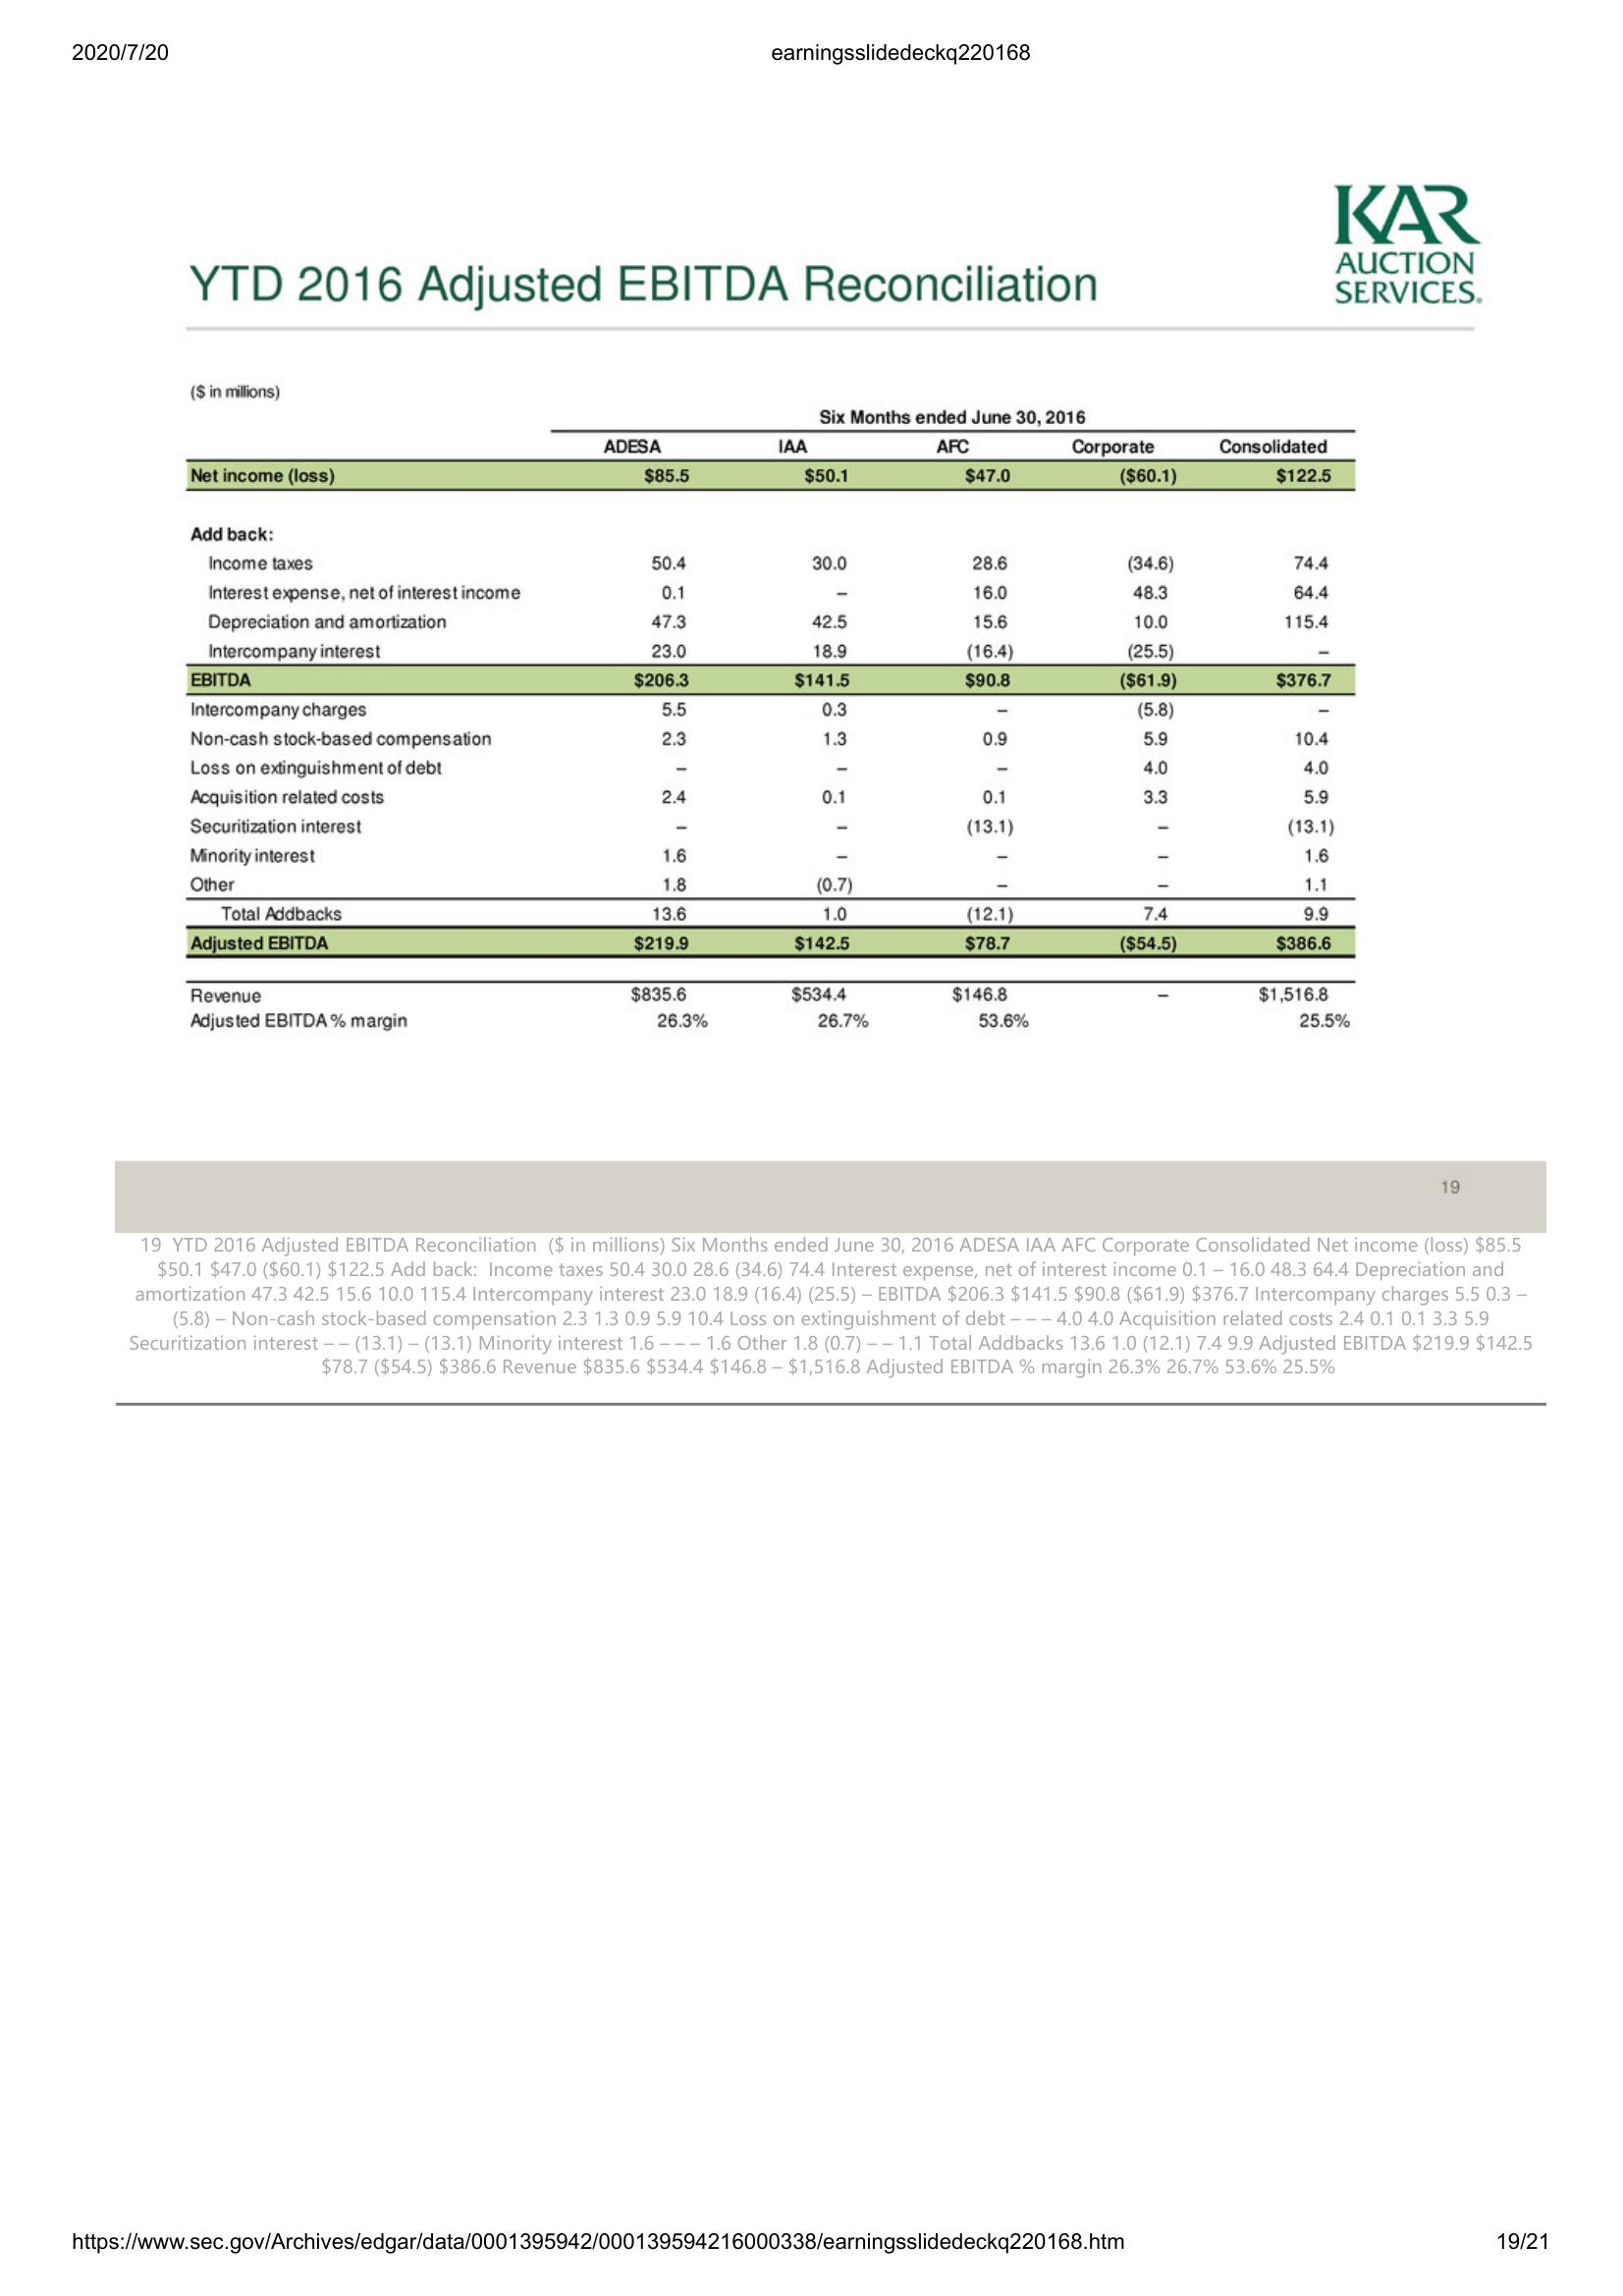table: (174, 405, 1365, 1030)
